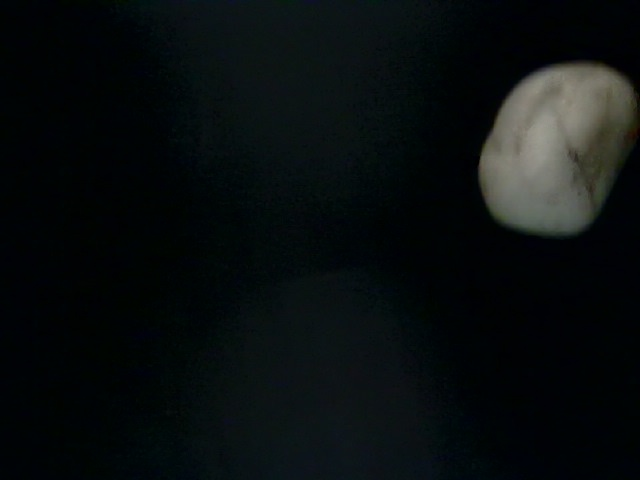QTLJ: (111, 263, 355, 457)
